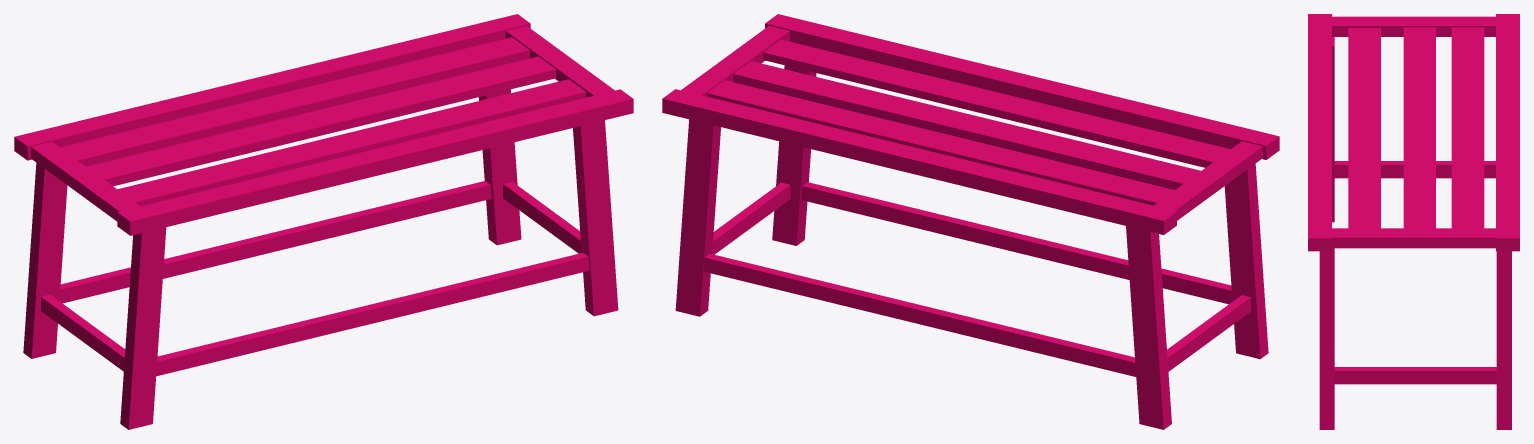
File: Bench_02_Lod0.fbx
3 views of the same model, side by side, from view 1: azimuth 30°, elevation 25°; view 2: azimuth 150°, elevation 25°; view 3: azimuth 270°, elevation 25° (orthographic). The views are drawn at different scales.
Visible parts, largest first — view 1: Bench_02_Lod0; view 2: Bench_02_Lod0; view 3: Bench_02_Lod0.
Part boxes in pixels (x1,y1,x2,y2): Bench_02_Lod0: [14, 14, 633, 429]; Bench_02_Lod0: [662, 14, 1279, 429]; Bench_02_Lod0: [1308, 14, 1519, 429].
Bounding box in the file's own units: 127 × 51.6 × 50.67.
